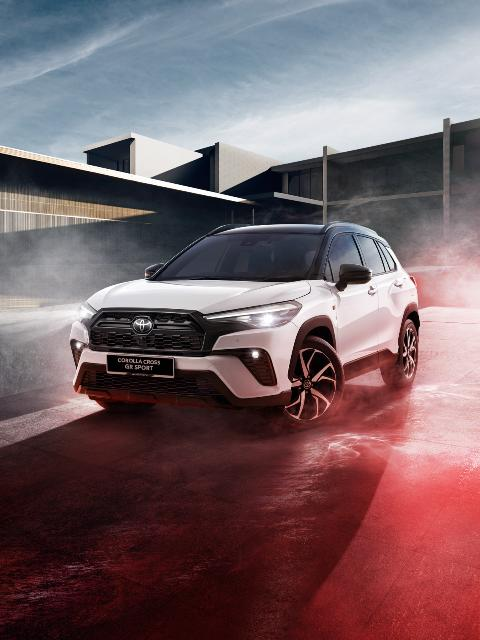toyota: (28, 219, 420, 491)
